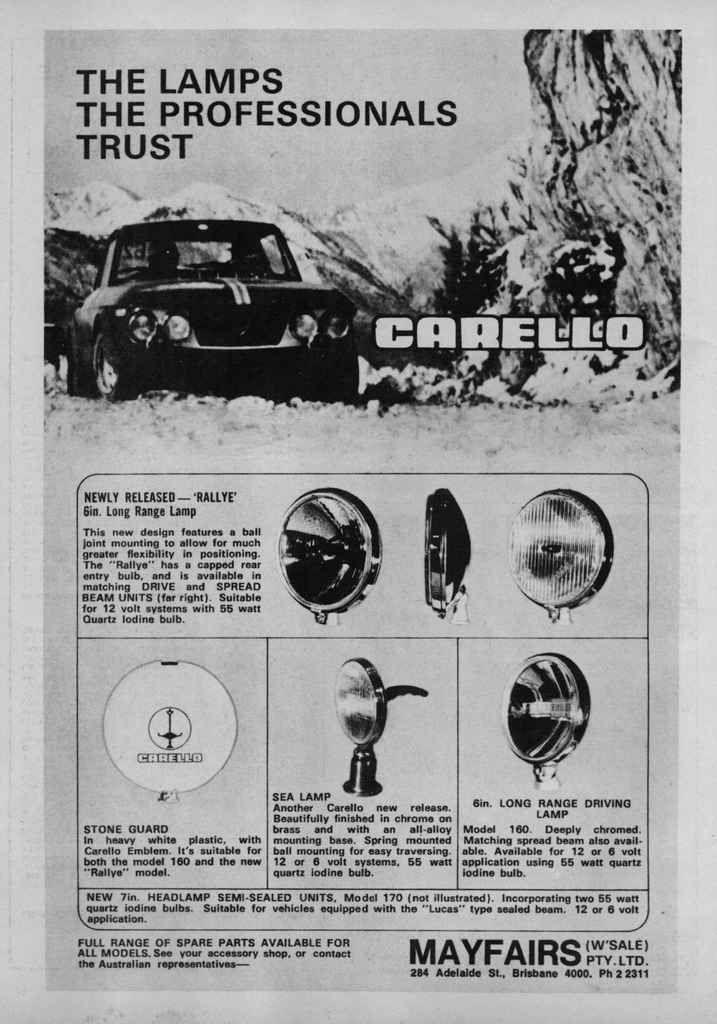Car: (60, 206, 402, 400)
